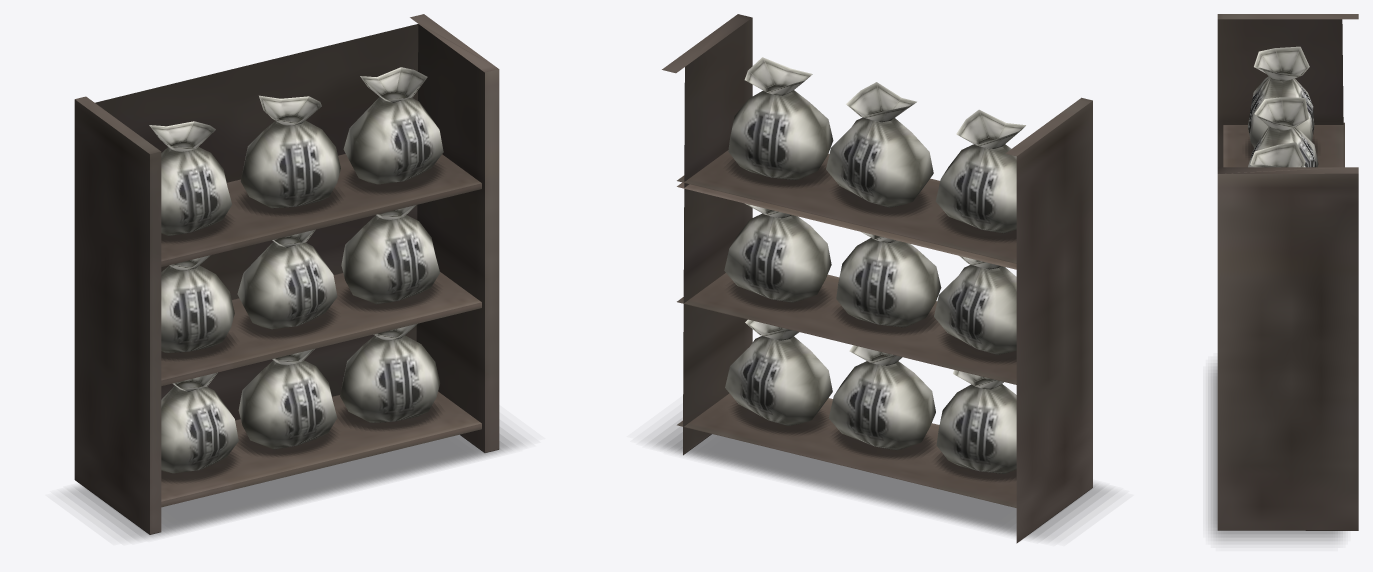
File: mintShelf_12500.glb
3 renders of one model, left to right at view 1: azimuth 30°, elevation 25°; view 2: azimuth 150°, elevation 25°; view 3: azimuth 270°, elevation 25°, orthographic. The views are drawn at different scales.
Parts seen in each view (by area): view 1: polySurface2, MoneyBagBase (×9), polySurface5, shadow, polySurface3, polySurface4, MonetBagShadow1 (×9), MoneyBagTop1 (×3); view 2: MoneyBagBase (×9), polySurface2, polySurface3, shadow, polySurface5, polySurface4, MonetBagShadow1 (×9), MoneyBagTop1 (×3); view 3: polySurface2, MoneyBagTop1 (×3), shadow, MoneyBagBase (×2), polySurface3.
Part boxes in pixels (left/top/right/bottom): polySurface2: left=74, top=14, right=499, bottom=534; MoneyBagBase (×9): left=161, top=92, right=443, bottom=473; polySurface5: left=161, top=391, right=481, bottom=507; shadow: left=64, top=427, right=522, bottom=539; polySurface3: left=161, top=154, right=481, bottom=266; polySurface4: left=161, top=272, right=481, bottom=385; MonetBagShadow1 (×9): left=161, top=162, right=442, bottom=483; MoneyBagTop1 (×3): left=149, top=67, right=427, bottom=152; MoneyBagBase (×9): left=724, top=85, right=1016, bottom=473; polySurface2: left=662, top=14, right=1092, bottom=543; polySurface3: left=677, top=150, right=1016, bottom=269; shadow: left=649, top=417, right=1115, bottom=539; polySurface5: left=677, top=393, right=1016, bottom=507; polySurface4: left=677, top=273, right=1016, bottom=384; MonetBagShadow1 (×9): left=727, top=159, right=1016, bottom=481; MoneyBagTop1 (×3): left=744, top=57, right=1025, bottom=148; polySurface2: left=1217, top=14, right=1358, bottom=530; MoneyBagTop1 (×3): left=1250, top=46, right=1309, bottom=167; shadow: left=1208, top=363, right=1344, bottom=541; MoneyBagBase (×2): left=1248, top=71, right=1318, bottom=167; polySurface3: left=1223, top=122, right=1344, bottom=167.
Bounding box in the file's own units: 18.11 × 14.01 × 5.81.
Materials: 5 (5 with a texture image).
